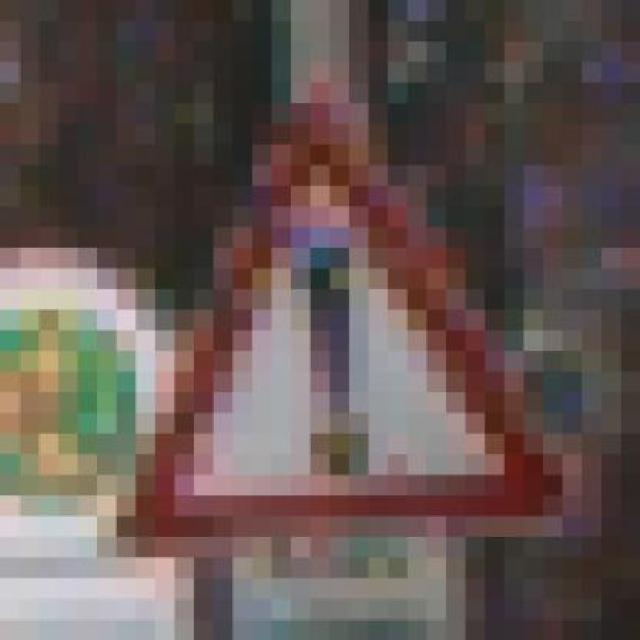Attention Please-: (77, 82, 601, 578)
